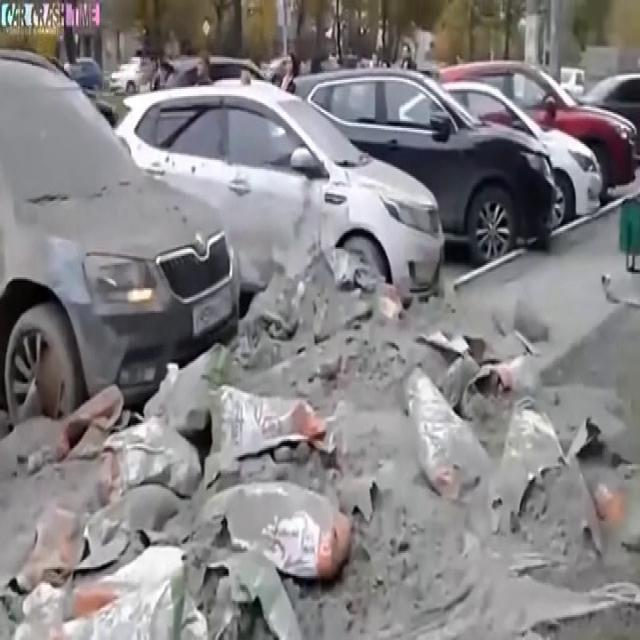accident: (0, 184, 240, 496)
